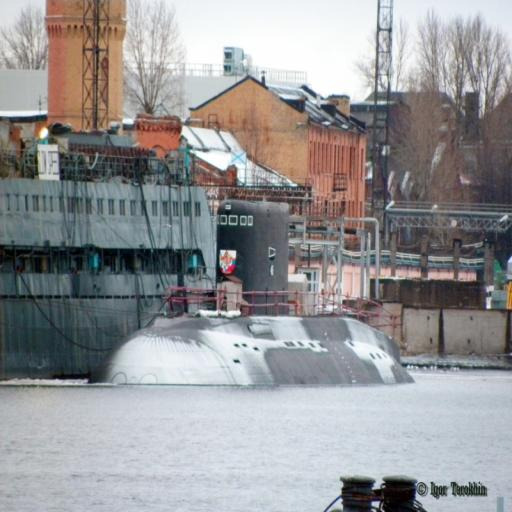submarine: (85, 198, 415, 388)
